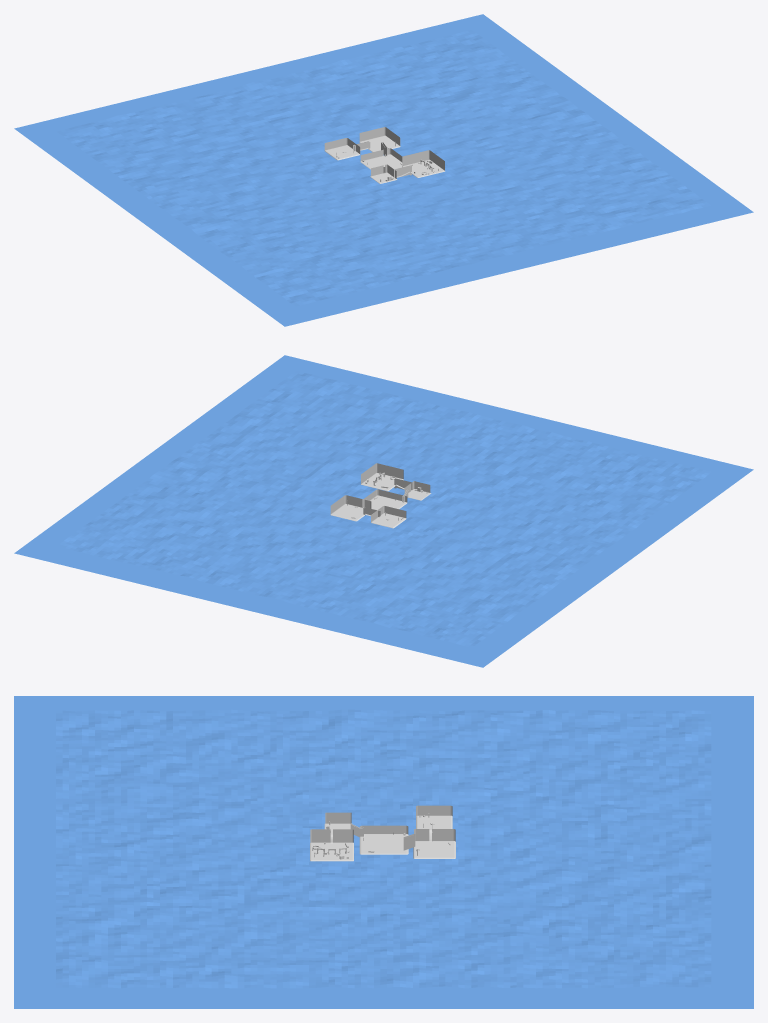
Rendered from terrain colider.glb.
3 views of the same model, one above another, from view 1: azimuth 30°, elevation 25°; view 2: azimuth 150°, elevation 25°; view 3: azimuth 270°, elevation 25° (orthographic). The views are drawn at different scales.
Visible parts, largest first — view 1: Water, Fond, colider; view 2: Water, Fond, colider; view 3: Water, Fond, colider.
Part boxes in pixels (bbox=[...]): Water: bbox=[56, 30, 710, 306]; Fond: bbox=[14, 14, 753, 326]; colider: bbox=[324, 127, 445, 183]; Water: bbox=[57, 371, 711, 647]; Fond: bbox=[14, 355, 753, 667]; colider: bbox=[330, 463, 431, 528]; Water: bbox=[56, 709, 711, 988]; Fond: bbox=[14, 696, 753, 1008]; colider: bbox=[310, 805, 455, 861].
Size of the model in its own units: 952 by 39.21 by 952.
